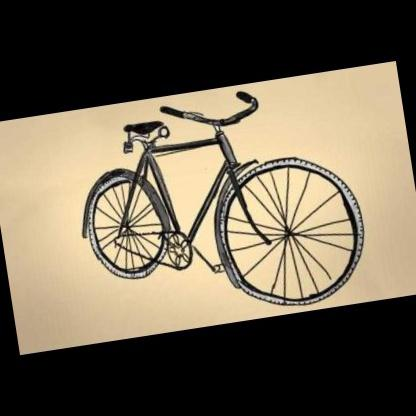Bicycle: (61, 88, 374, 314)
